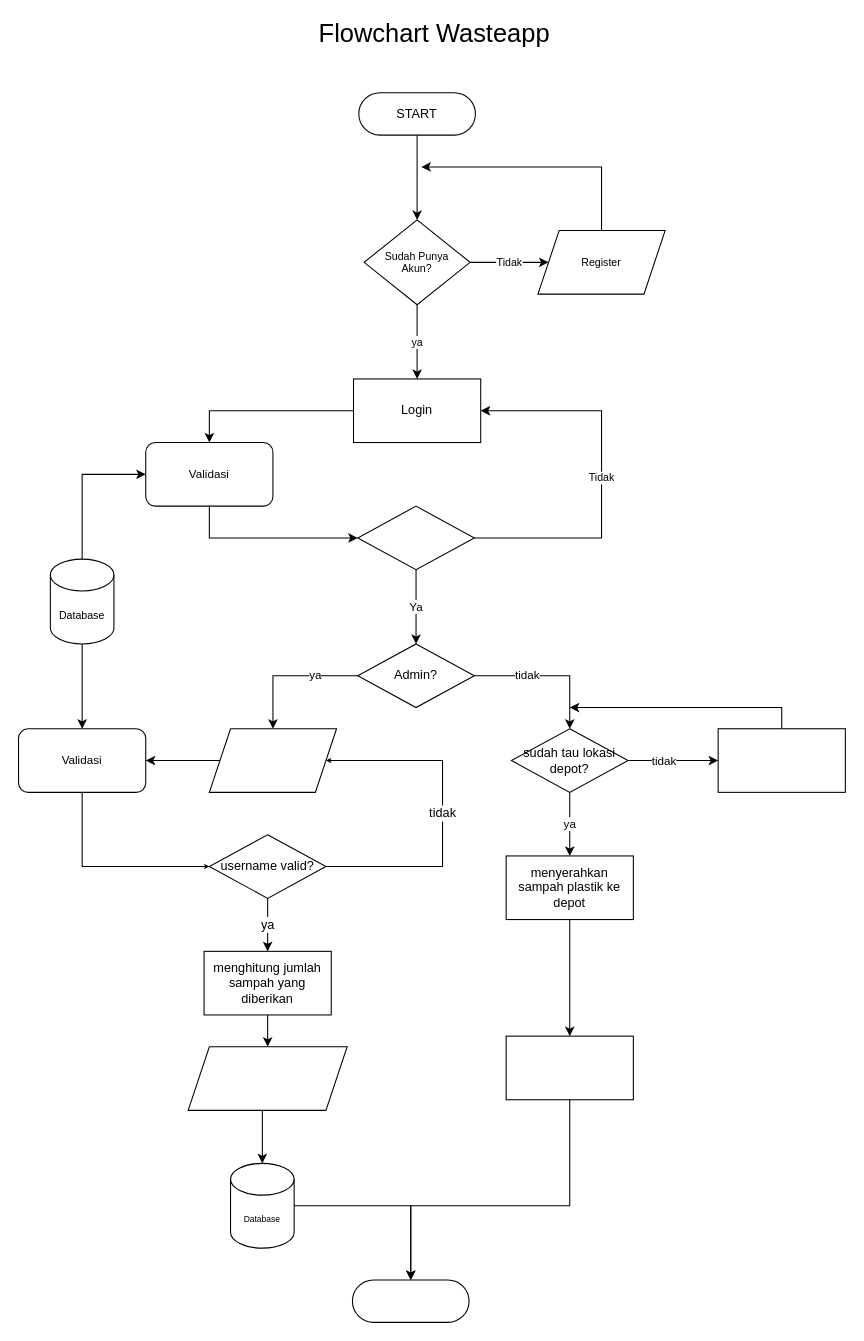
Some shapes in this 864 by 1341 pixel diagram are drawn without their labels. Here are the shapes that lost their labels. From the top down, the centre of each, then its label:
At [415,537]: "Apakah User sudah Login?".
At [272,760]: "input username pengguna".
At [781,760]: "cek lokasi".
At [267,1078]: "menginput balance pengguna".
At [569,1067]: "Balance user bertambah".
At [410,1300]: "END".
